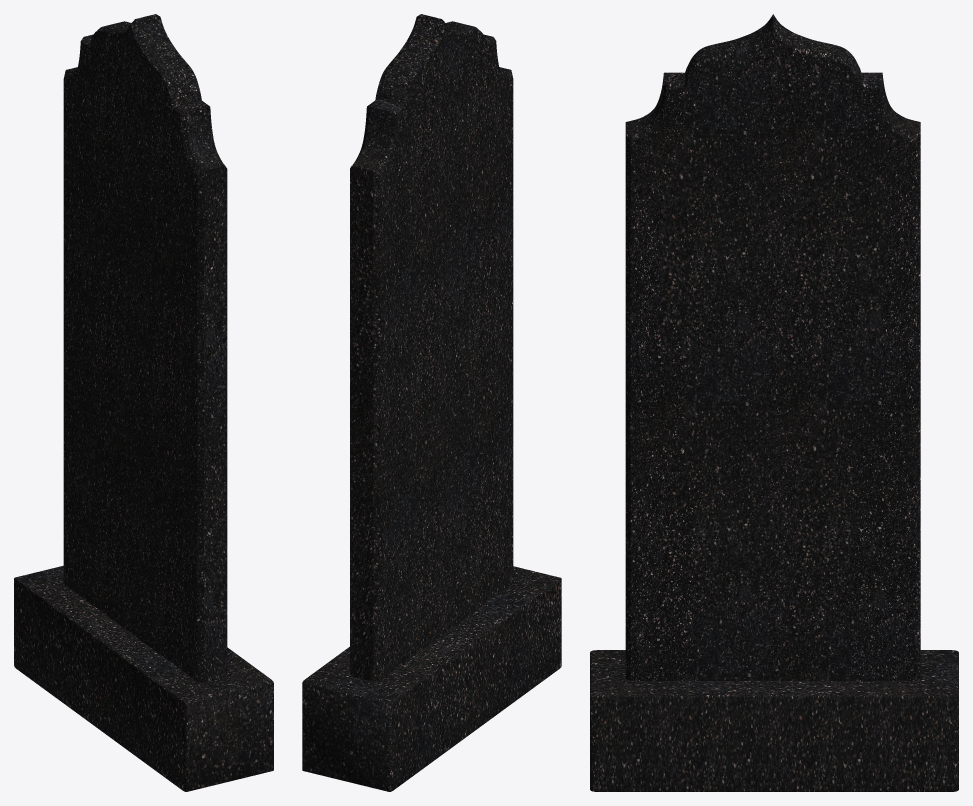
File: Памятник вола Габро [granite_u_u] (100).glb
3 views of the same model, side by side, from view 1: azimuth 30°, elevation 25°; view 2: azimuth 150°, elevation 25°; view 3: azimuth 270°, elevation 25° (orthographic). The views are drawn at different scales.
Parts seen in each view (by area): view 1: Cube.059; view 2: Cube.059; view 3: Cube.059.
Boxes of the visible parts, left/top/right/bottom form: Cube.059: left=14, top=14, right=273, bottom=791; Cube.059: left=302, top=14, right=561, bottom=791; Cube.059: left=590, top=14, right=958, bottom=791.
Size of the model in its own units: 0.15 by 1.12 by 0.5.
Materials: 1 (1 with a texture image).
